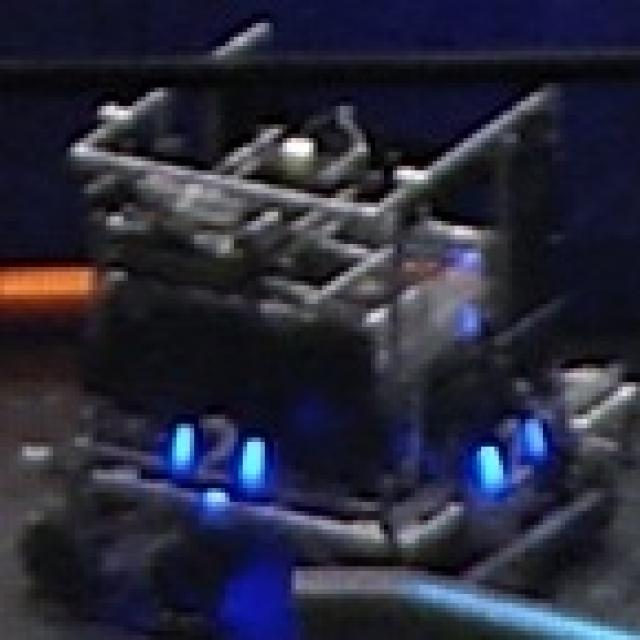B2: (157, 401, 276, 488), (459, 408, 556, 490)
